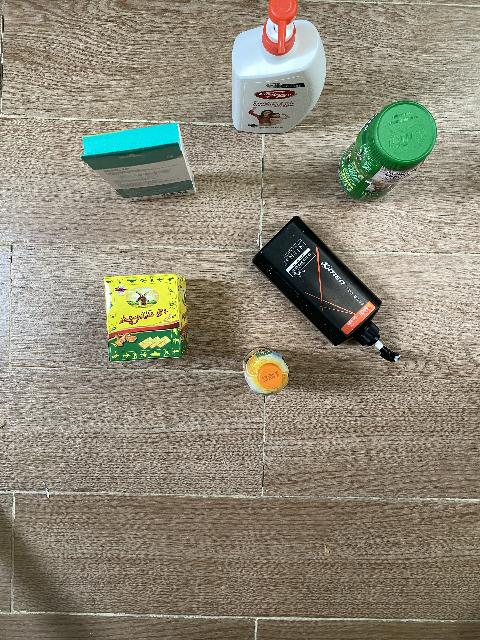4D_medical_face-mask: (80, 123, 197, 202)
X-men: (251, 215, 402, 362)
life-buoy: (232, 0, 326, 134)
luong_kho: (104, 273, 189, 362)
milo: (338, 101, 437, 201)
teppy_orange_juice: (242, 347, 290, 396)
